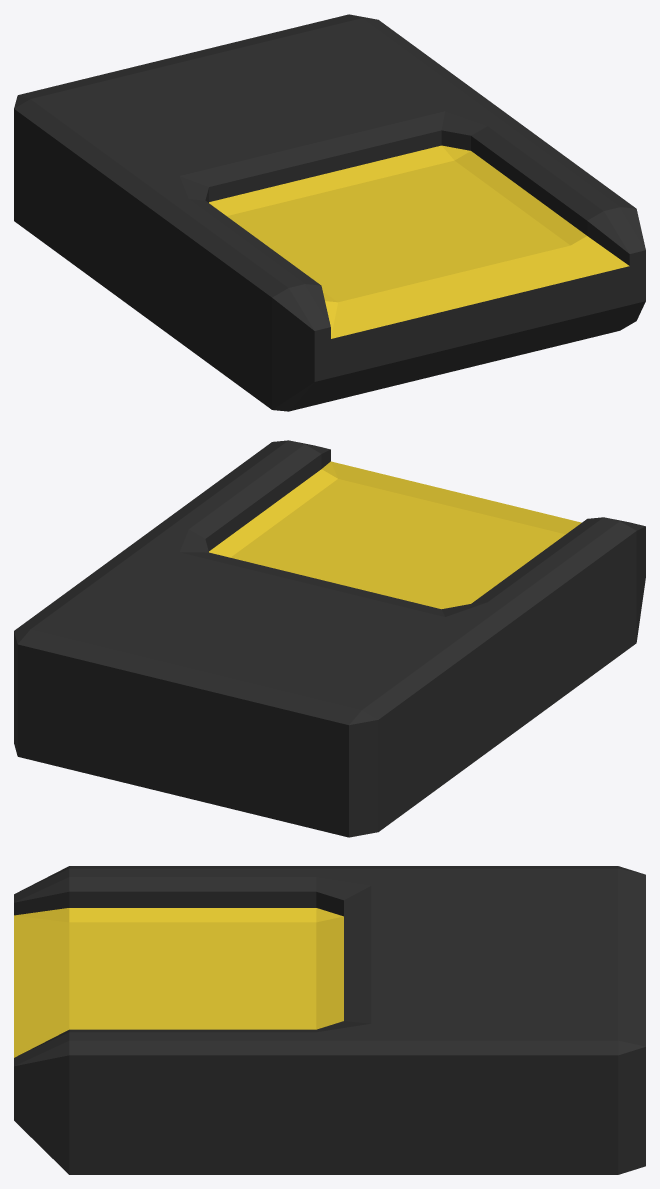
The model's file is メモリー 1.fbx.
3 renders of one model, top to bottom at view 1: azimuth 30°, elevation 25°; view 2: azimuth 150°, elevation 25°; view 3: azimuth 270°, elevation 25°, orthographic. The views are drawn at different scales.
Visible parts, largest first — view 1: 立方体; view 2: 立方体; view 3: 立方体.
Part boxes in pixels (x1,y1,x2,y2): 立方体: (14,14,645,411); 立方体: (14,440,645,837); 立方体: (14,866,645,1174).
Bounding box in the file's own units: 148 × 209 × 48.04.
